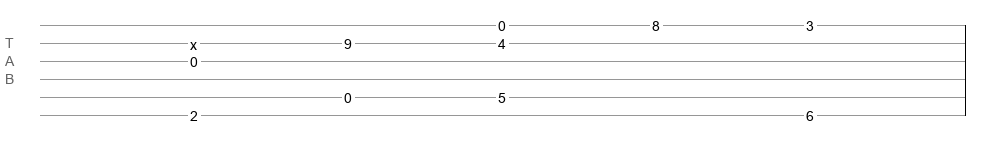0: (190, 54, 198, 64), (344, 90, 352, 100), (498, 18, 506, 28)
2: (190, 108, 198, 118)
3: (806, 18, 814, 28)
4: (498, 36, 506, 46)
5: (498, 90, 506, 100)
6: (806, 108, 814, 118)
8: (652, 18, 660, 28)
9: (344, 36, 352, 46)
x: (190, 37, 197, 45)
